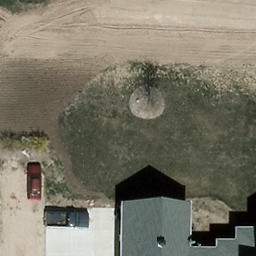car: (27, 162, 41, 200)
pickup: (44, 210, 90, 228)
